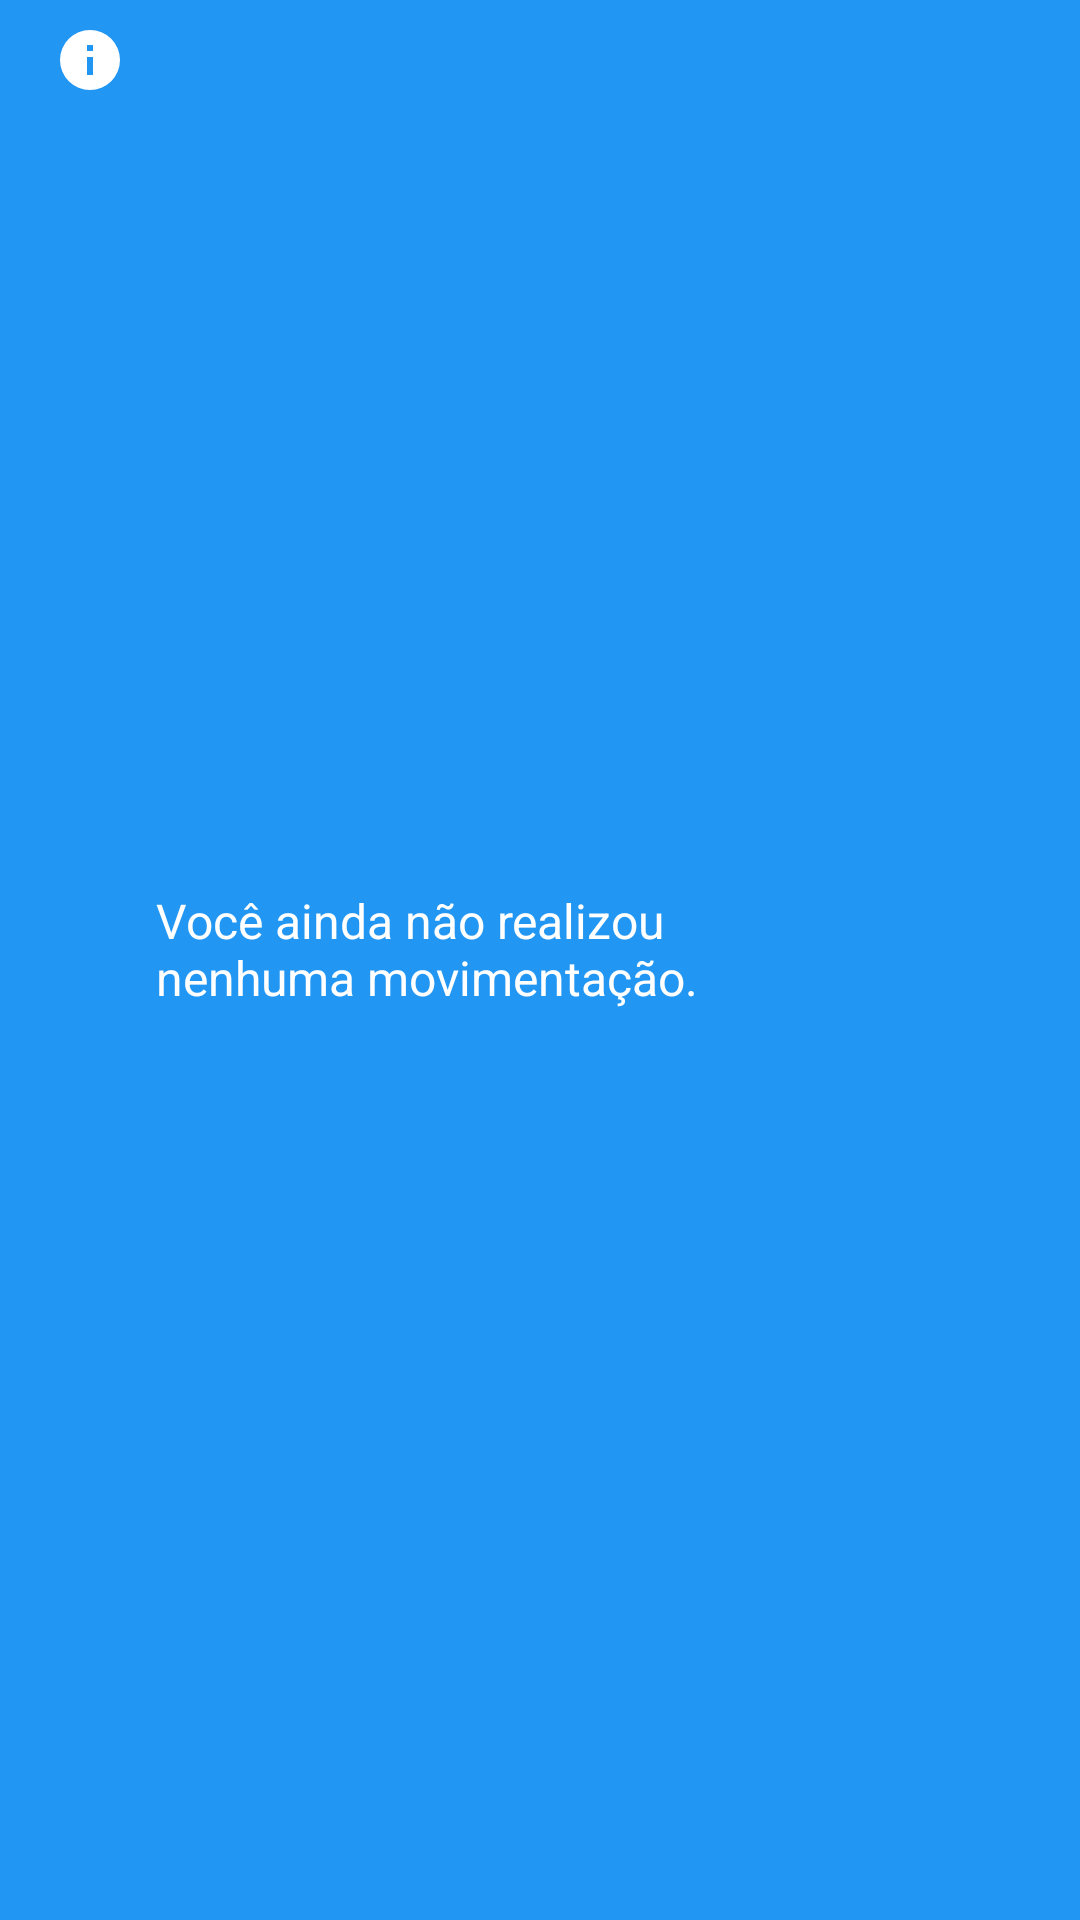

Icons on this 1080px×1920px Android screen, each with its box as (x1, y1, x2, y2):
information: (60, 30, 120, 90)
